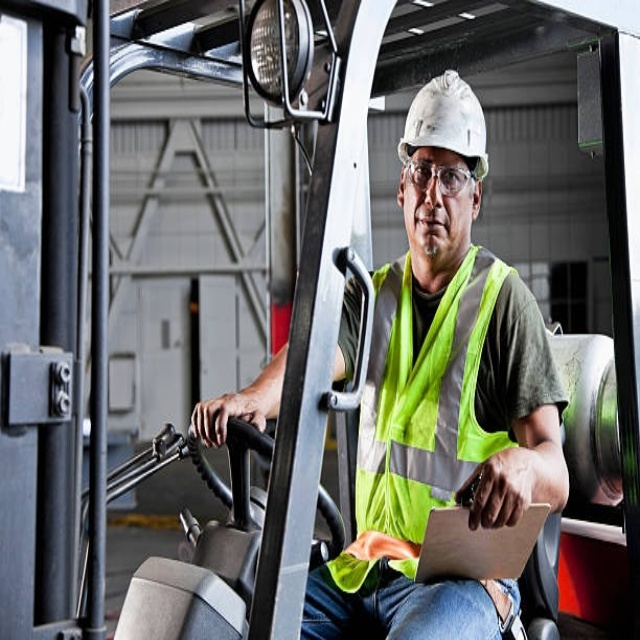Gafas: (404, 160, 476, 197)
Sin_guantes: (458, 444, 543, 532), (190, 389, 265, 445)
Sin_mascara: (415, 213, 447, 256)
